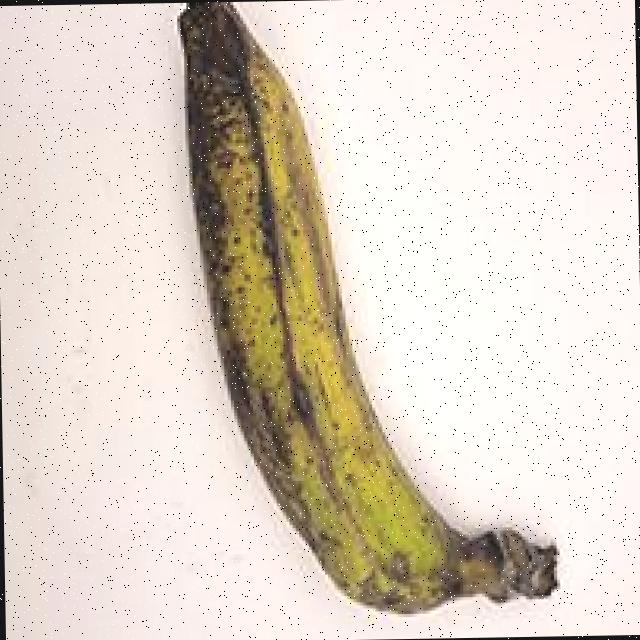Overripe: (126, 0, 582, 637)
